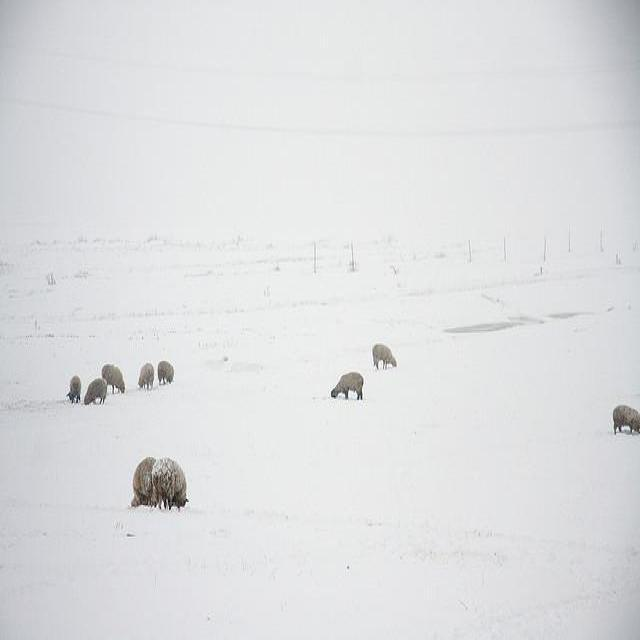Sheep: (152, 457, 188, 511)
